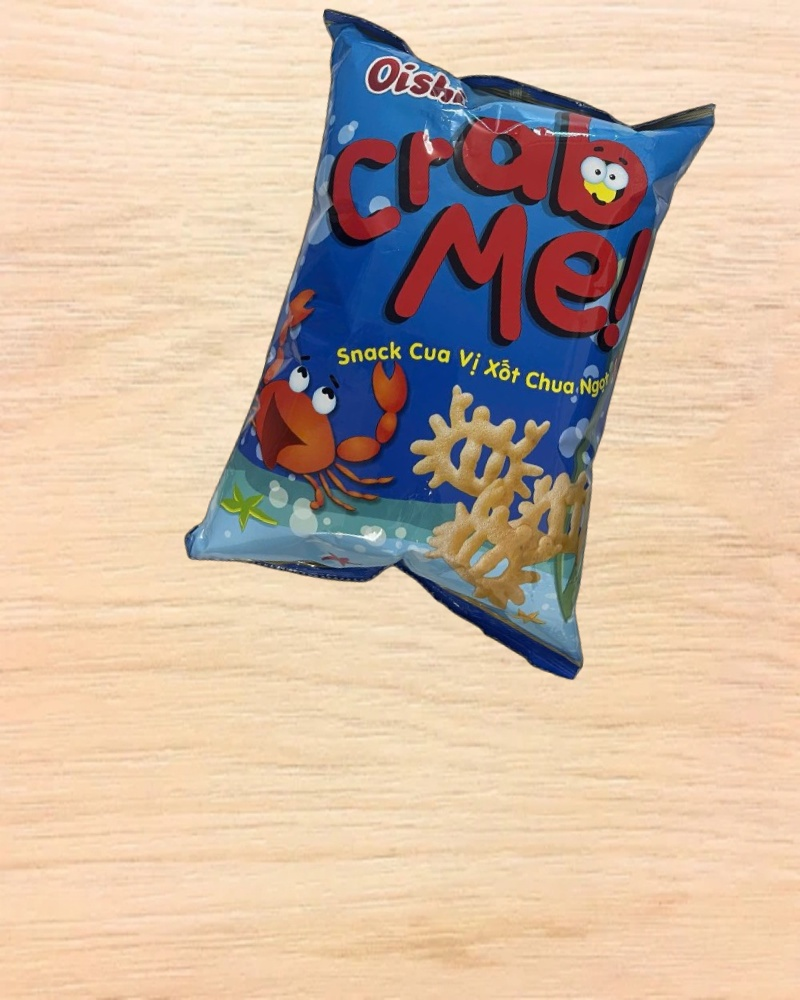Snack cua: (176, 2, 731, 676)
